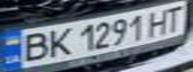1: (72, 20, 96, 52), (127, 11, 151, 42)
2: (90, 18, 115, 50)
9: (109, 16, 133, 47)
B: (15, 29, 54, 63)
H: (142, 6, 175, 37)
K: (42, 25, 75, 58)
T: (157, 2, 193, 33)
